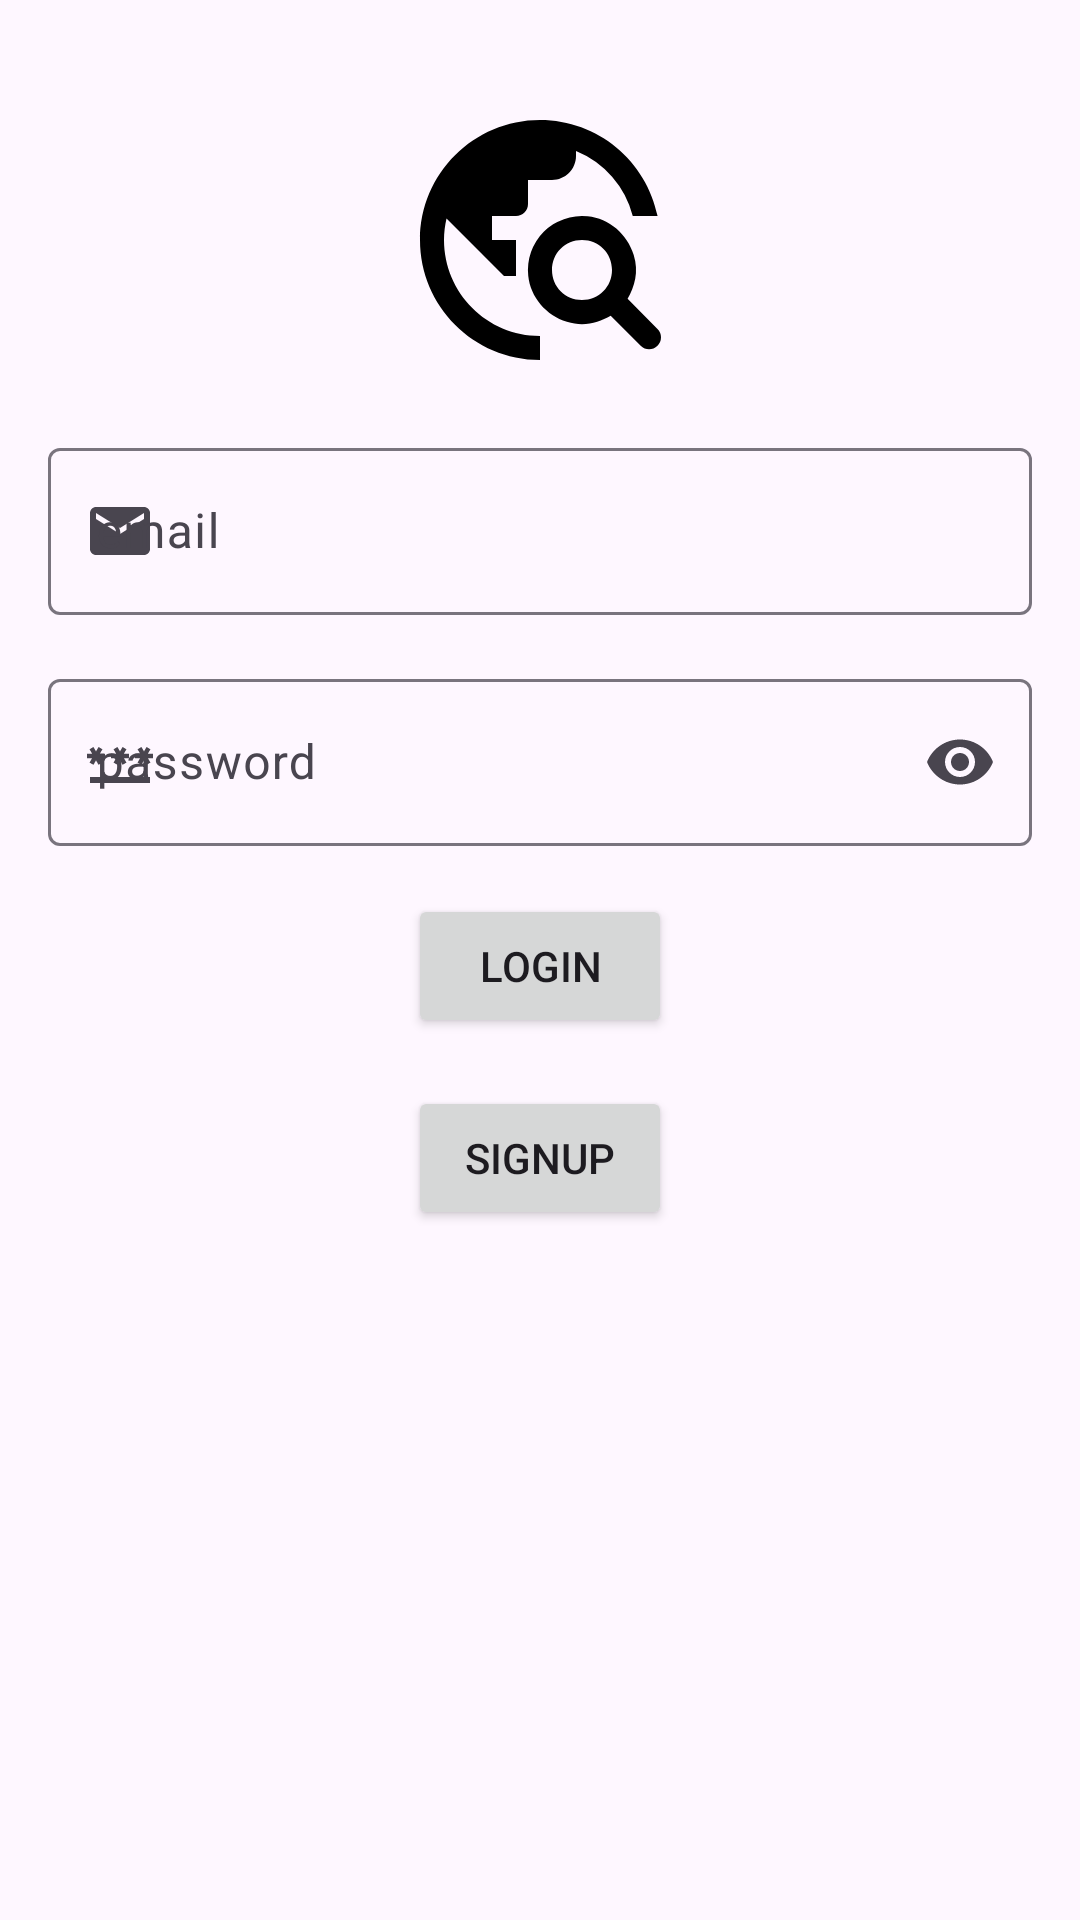

Icons on this 1080 x 1920 Android screen, each with the point to tap as [x,y]:
travel explore: [540,240]
